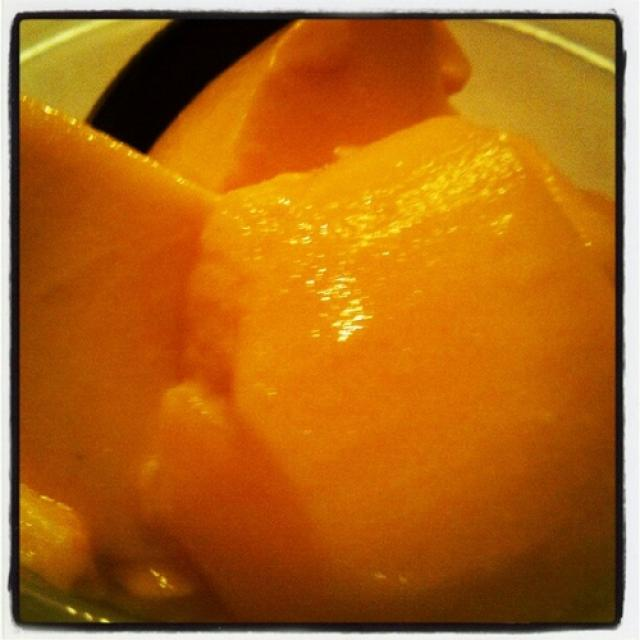面条主食: (25, 0, 576, 422)
